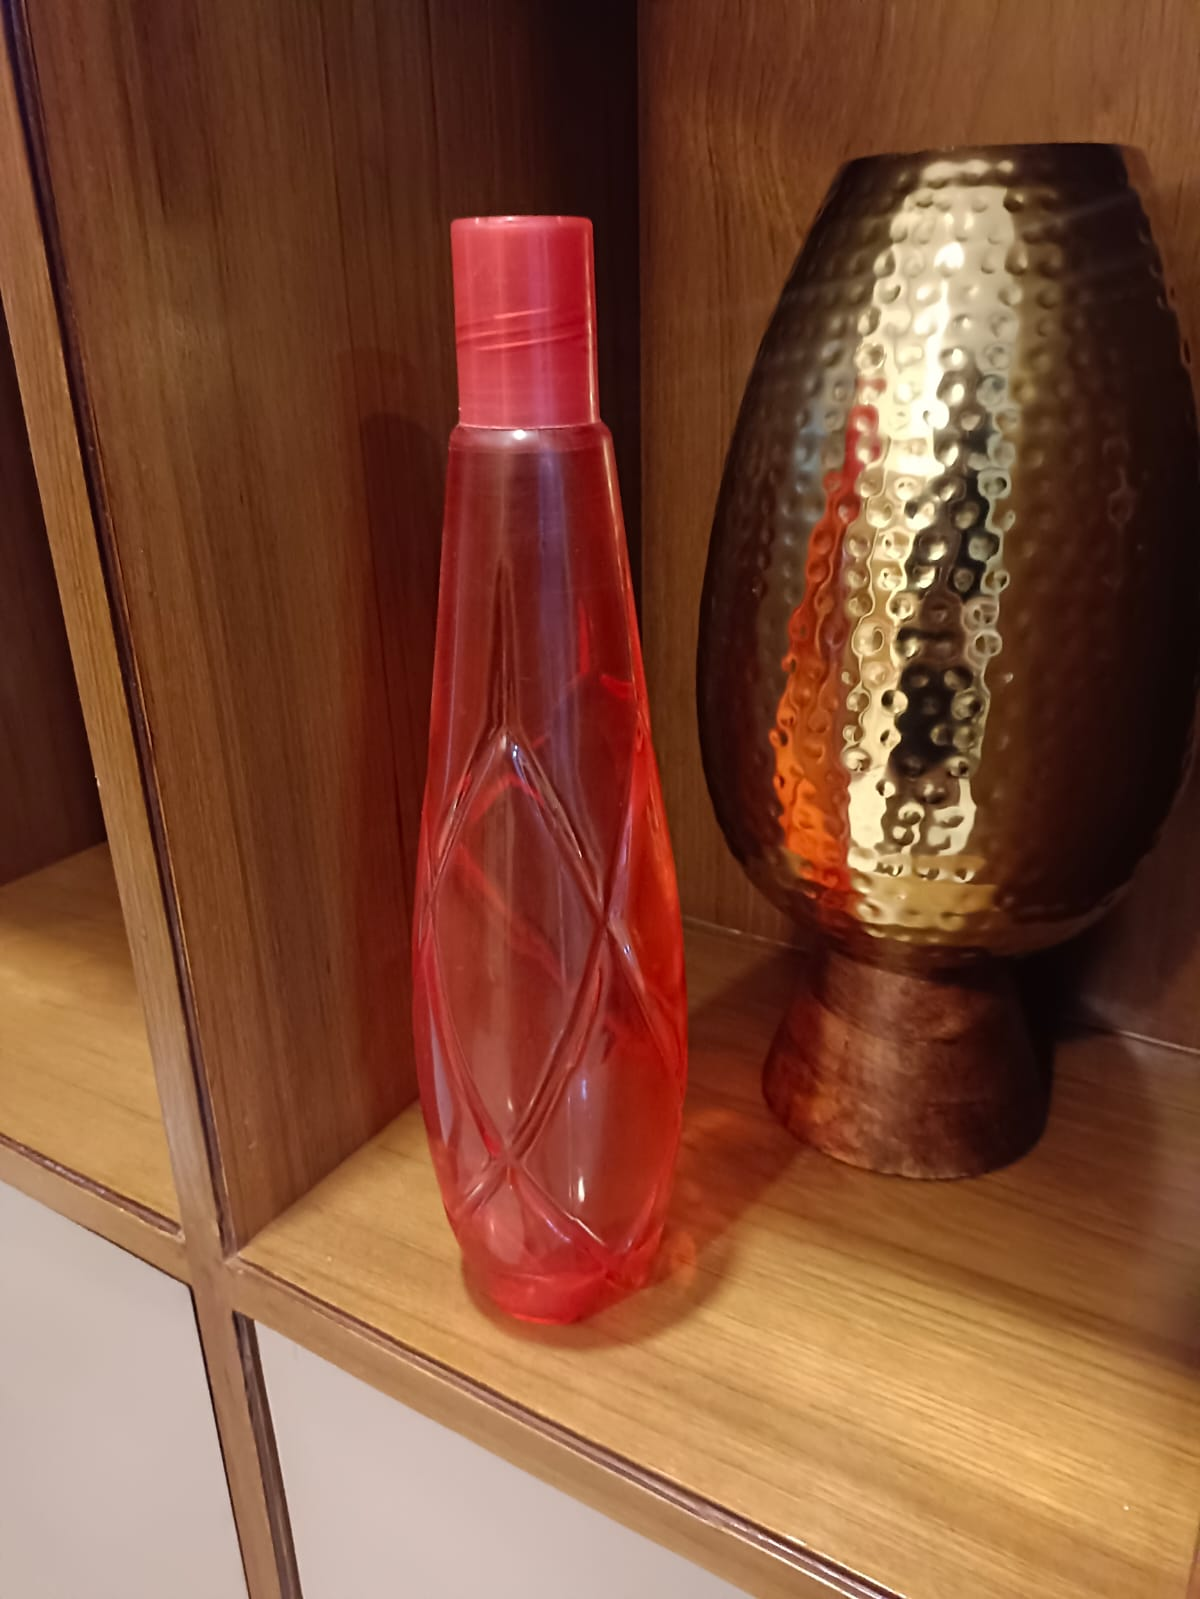bottle: (413, 208, 724, 1356)
